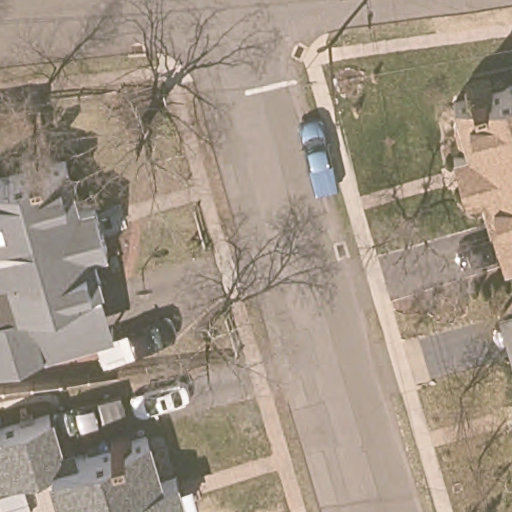DT: (324, 46, 348, 132)
